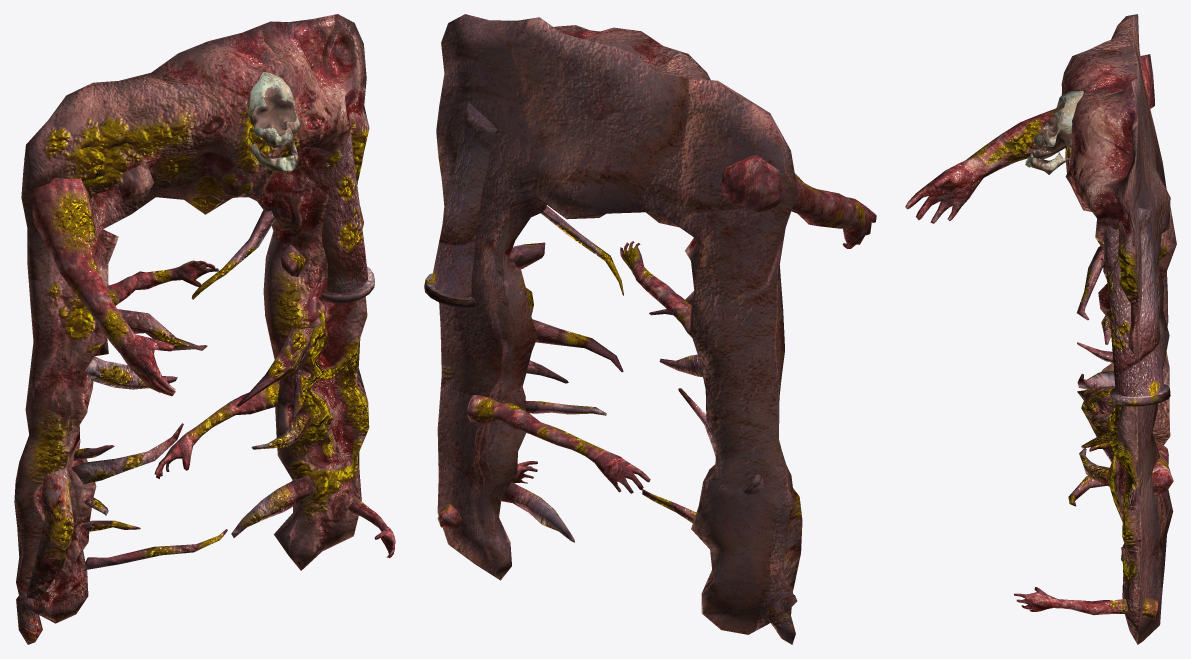
Rendered from BrokenWall.FBX.
3 renders of one model, left to right at view 1: azimuth 30°, elevation 25°; view 2: azimuth 150°, elevation 25°; view 3: azimuth 270°, elevation 25°, orthographic. The views are drawn at different scales.
Parts seen in each view (by area): view 1: arch, Arm1, pipe, leg, low, Arm3, Arm2, Spike006, Spike10, Spike3, Spike8, spike13 (+6 smaller); view 2: arch, pipe, Arm1, Arm3, leg, Arm2, Spike006, Spike3, Spike1, arm4, Spike5, Spike2; view 3: arch, pipe, Arm1, low, arm4, Arm3, Spike3, Spike7, leg, Spike10, Spike5, spike13.
Boxes of the visible parts, x1=… form: arch: x1=14, y1=14, x2=369, y2=623; Arm1: x1=24, y1=158, x2=175, y2=396; pipe: x1=322, y1=131, x2=374, y2=303; leg: x1=16, y1=467, x2=74, y2=644; low: x1=247, y1=72, x2=301, y2=172; Arm3: x1=154, y1=380, x2=279, y2=478; Arm2: x1=108, y1=260, x2=218, y2=305; Spike006: x1=231, y1=475, x2=315, y2=537; Spike10: x1=71, y1=423, x2=183, y2=484; Spike3: x1=237, y1=328, x2=313, y2=406; Spike8: x1=85, y1=356, x2=177, y2=389; spike13: x1=84, y1=529, x2=227, y2=569; arch: x1=436, y1=14, x2=797, y2=634; pipe: x1=424, y1=102, x2=497, y2=307; Arm1: x1=722, y1=155, x2=876, y2=248; Arm3: x1=466, y1=395, x2=650, y2=493; leg: x1=744, y1=473, x2=802, y2=644; Arm2: x1=620, y1=241, x2=691, y2=337; Spike006: x1=501, y1=482, x2=574, y2=542; Spike3: x1=532, y1=319, x2=623, y2=372; Spike1: x1=541, y1=205, x2=623, y2=295; arm4: x1=437, y1=461, x2=537, y2=528; Spike5: x1=525, y1=401, x2=606, y2=415; Spike2: x1=509, y1=242, x2=545, y2=269; arch: x1=1061, y1=14, x2=1176, y2=644; pipe: x1=1104, y1=207, x2=1170, y2=406; Arm1: x1=905, y1=54, x2=1154, y2=223; low: x1=1025, y1=91, x2=1083, y2=174; arm4: x1=1014, y1=587, x2=1158, y2=620; Arm3: x1=1152, y1=439, x2=1173, y2=495; Spike3: x1=1077, y1=386, x2=1115, y2=415; Spike7: x1=1076, y1=246, x2=1103, y2=320; leg: x1=1081, y1=363, x2=1114, y2=462; Spike10: x1=1077, y1=371, x2=1115, y2=389; Spike5: x1=1079, y1=448, x2=1109, y2=486; spike13: x1=1068, y1=475, x2=1106, y2=506.
Bounding box in the file's own units: 98.15 × 146 × 66.28.
1 material, 1 textured.
